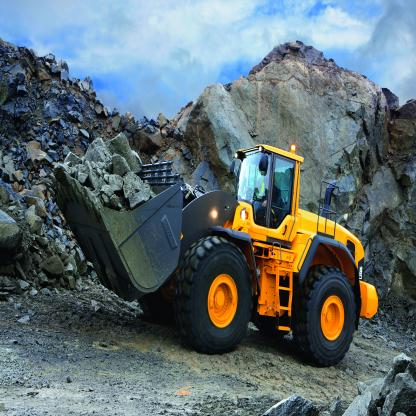bull_dozer/loader/grader: (54, 118, 388, 377)
